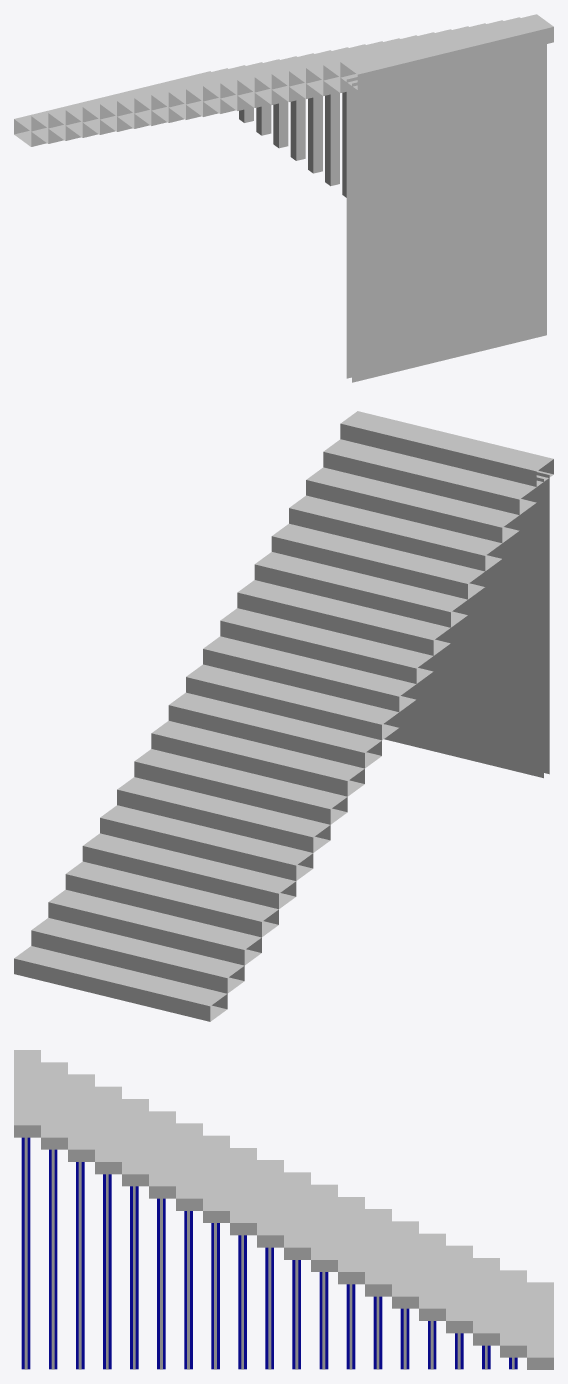
File: Stairs.fbx
The picture shows the model from 3 angles, top to bottom: view 1: azimuth 30°, elevation 25°; view 2: azimuth 150°, elevation 25°; view 3: azimuth 270°, elevation 25°; orthographic projection. The views are drawn at different scales.
Visible parts, largest first — view 1: Stairs; view 2: Stairs; view 3: Stairs.
Boxes of the visible parts, x1,y1,x2,y2 form: Stairs: (14,14,553,382); Stairs: (14,411,553,1021); Stairs: (14,1050,553,1369).
Size of the model in its own units: 1.98 by 3 by 6.
